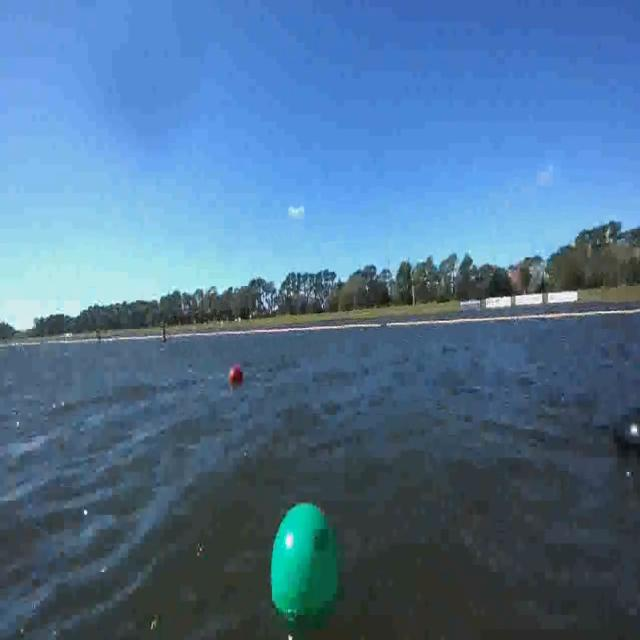black-buoy: (609, 398, 640, 465)
green-buoy: (268, 503, 343, 624)
red-buoy: (232, 367, 244, 388)
